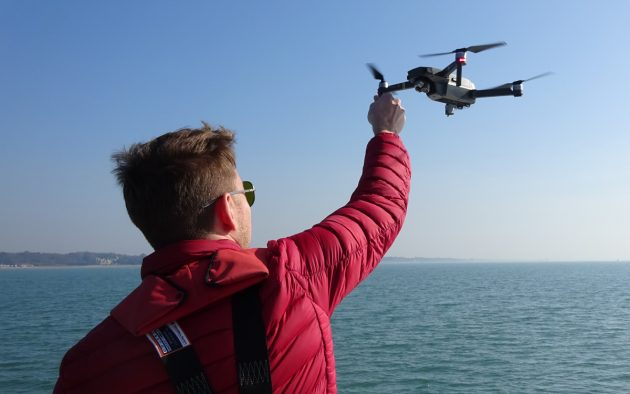drone: (359, 37, 565, 128)
